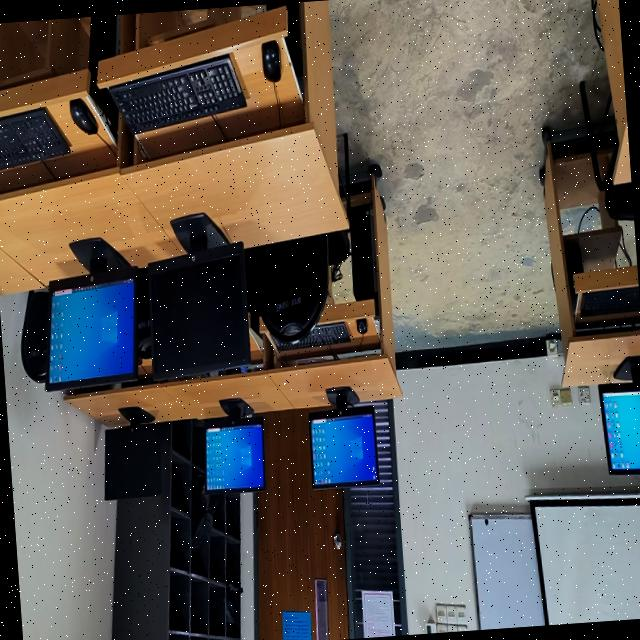Chair: (578, 81, 634, 219), (257, 233, 327, 341), (597, 94, 610, 137)
Keyboard: (103, 53, 245, 134), (0, 106, 69, 168), (274, 321, 349, 349), (579, 285, 640, 314)
Monitor: (147, 213, 249, 379), (44, 237, 137, 390), (308, 387, 377, 488), (203, 398, 263, 492), (104, 406, 161, 499), (597, 381, 640, 473)
Mouse: (68, 98, 96, 133), (260, 40, 279, 81), (355, 318, 366, 334)
